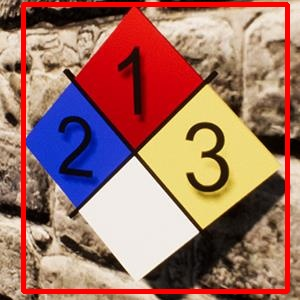nfpa: (23, 4, 287, 291)
